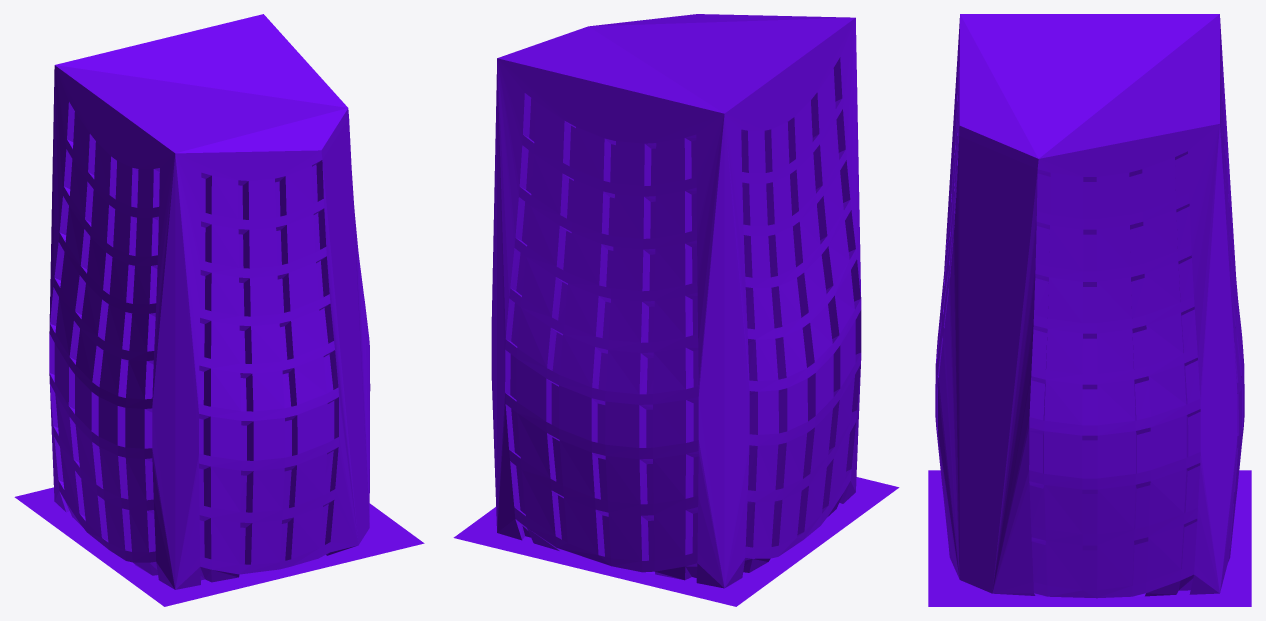
Rendered from Skyscraper.FBX.
The picture shows the model from 3 angles, left to right: view 1: azimuth 30°, elevation 25°; view 2: azimuth 150°, elevation 25°; view 3: azimuth 270°, elevation 25°; orthographic projection. The views are drawn at different scales.
Parts seen in each view (by area): view 1: u_skyscraper; view 2: u_skyscraper; view 3: u_skyscraper.
Boxes of the visible parts, <box> form: u_skyscraper: <box>14,14,424,606</box>; u_skyscraper: <box>453,14,899,606</box>; u_skyscraper: <box>928,14,1251,606</box>.
Bounding box in the file's own units: 4381 × 7023 × 4381.
